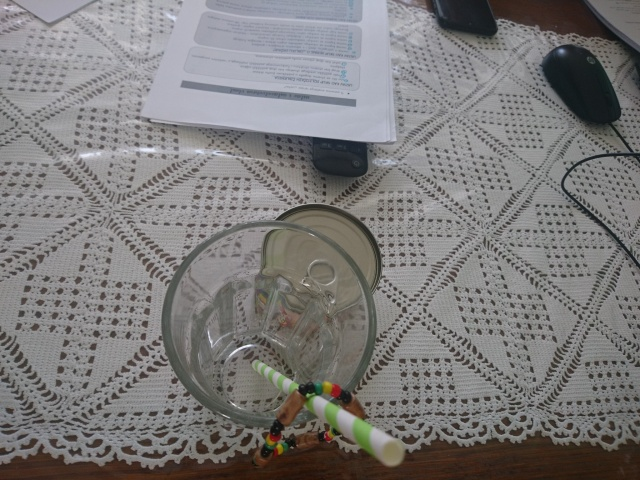Giana Tuna Salad Mexico 185g: (251, 201, 384, 336)
